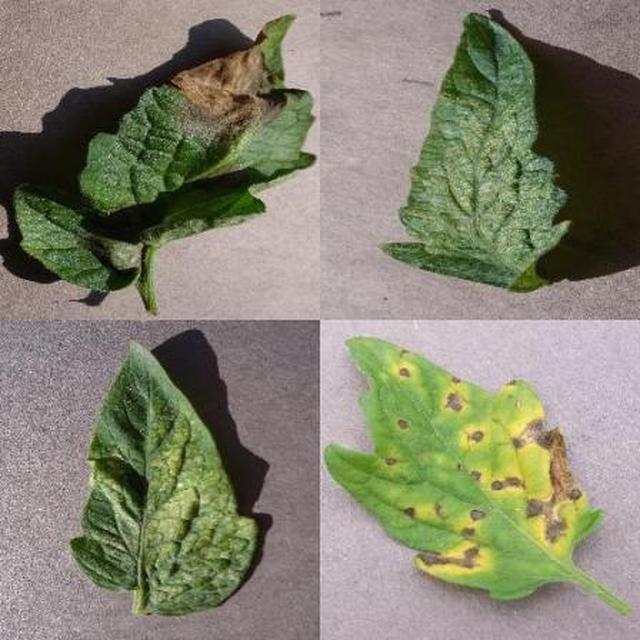Late Blight Leaf: (234, 215, 640, 640)
